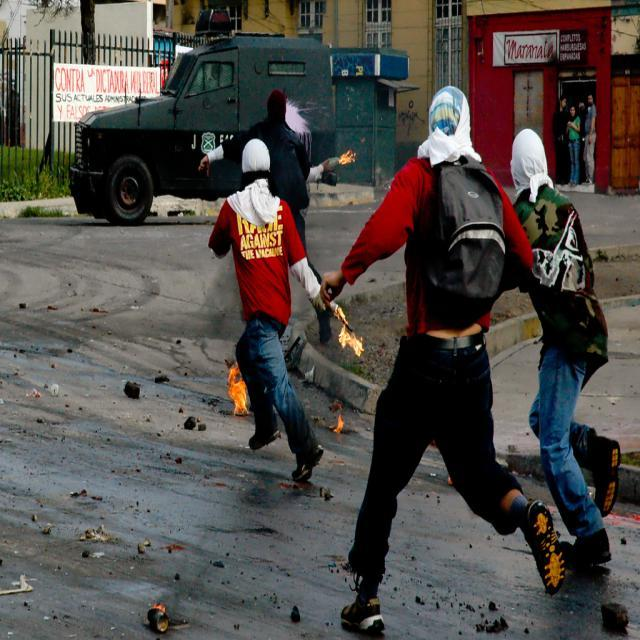Fire: (334, 299, 366, 365), (222, 362, 254, 418), (338, 147, 358, 172)
